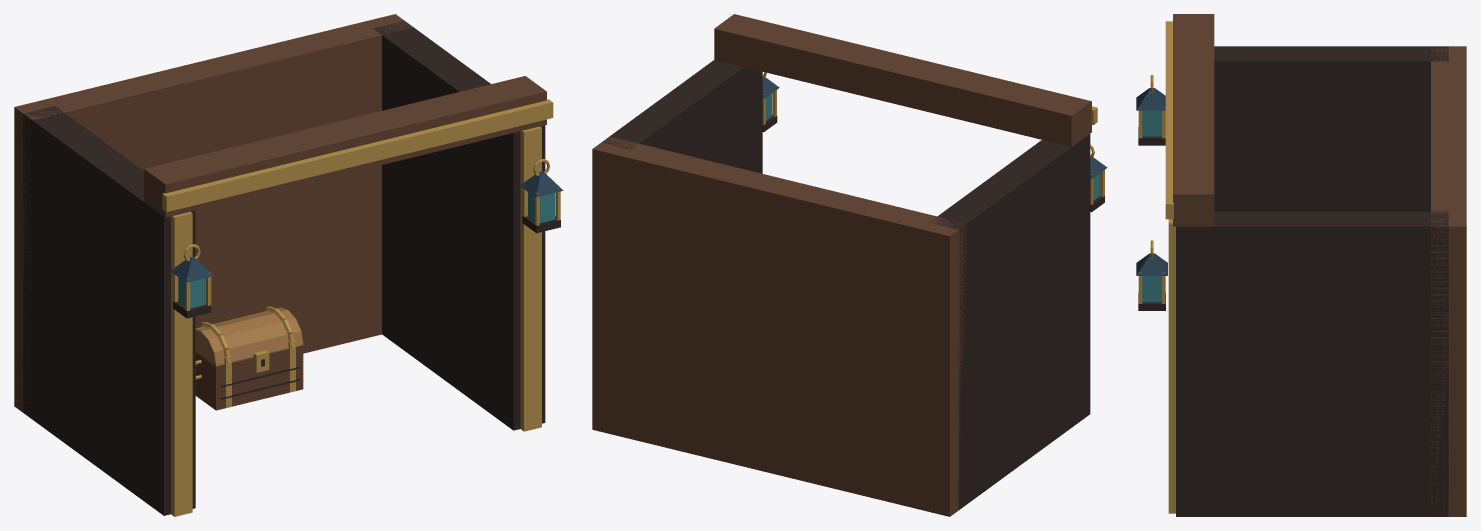
The model's file is PirateCove_TreasureAlcove_Standard.glb.
3 renders of one model, left to right at view 1: azimuth 30°, elevation 25°; view 2: azimuth 150°, elevation 25°; view 3: azimuth 270°, elevation 25°, orthographic. The views are drawn at different scales.
Visible parts, largest first — view 1: PirateCove_TreasureAlcove_Standard; view 2: PirateCove_TreasureAlcove_Standard; view 3: PirateCove_TreasureAlcove_Standard.
Part boxes in pixels (box(x1,y1,x2,y2)): PirateCove_TreasureAlcove_Standard: box(14, 14, 563, 516); PirateCove_TreasureAlcove_Standard: box(592, 14, 1107, 516); PirateCove_TreasureAlcove_Standard: box(1136, 14, 1466, 516).
Size of the model in its own units: 3.65 by 3 by 2.78.
